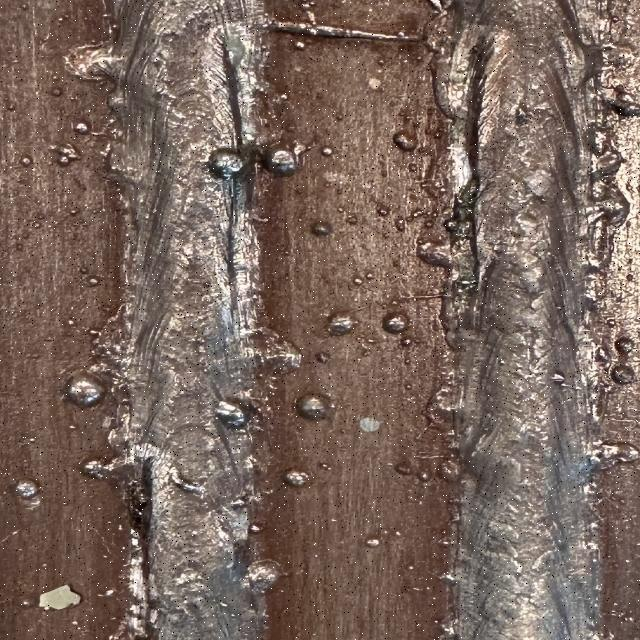Excess Reinforcement: (417, 175, 478, 338), (580, 284, 618, 438), (122, 454, 152, 639), (585, 161, 630, 270), (90, 301, 133, 401), (258, 21, 420, 41), (598, 44, 640, 118), (108, 125, 143, 210), (432, 48, 470, 120), (250, 328, 302, 375), (65, 41, 122, 80), (445, 125, 472, 196), (425, 385, 457, 435), (108, 400, 135, 456), (423, 9, 455, 55), (590, 442, 640, 470), (108, 604, 148, 639), (590, 148, 623, 183), (105, 82, 127, 131), (80, 458, 130, 479), (437, 460, 460, 482), (438, 615, 458, 639), (448, 495, 462, 529), (438, 572, 457, 586), (438, 536, 457, 549), (428, 0, 445, 12)
Spatters: (65, 372, 105, 407), (242, 560, 280, 594), (263, 144, 298, 176), (208, 149, 243, 179), (297, 394, 332, 420), (215, 401, 247, 429), (403, 205, 445, 222), (328, 312, 357, 336), (382, 312, 408, 334), (610, 365, 637, 385), (393, 130, 417, 151), (15, 480, 40, 499), (283, 470, 308, 486), (57, 144, 80, 161), (593, 345, 612, 365), (615, 336, 635, 354), (312, 221, 333, 236), (73, 121, 90, 135), (395, 462, 413, 475), (315, 351, 332, 364), (32, 211, 45, 228), (603, 632, 628, 640), (230, 498, 248, 509), (18, 155, 33, 168), (550, 372, 565, 385), (395, 464, 412, 474), (300, 0, 315, 11), (377, 204, 390, 216), (418, 471, 432, 482), (57, 156, 72, 166), (87, 275, 100, 286), (395, 218, 405, 232), (248, 524, 262, 534), (102, 142, 112, 156), (98, 589, 115, 597), (365, 539, 380, 548), (400, 338, 413, 348), (277, 94, 290, 104), (17, 0, 28, 11), (318, 462, 332, 470), (322, 146, 333, 156), (50, 88, 63, 96), (625, 616, 638, 624), (408, 162, 418, 172), (78, 266, 88, 275), (353, 278, 363, 286), (58, 14, 68, 22), (365, 272, 375, 280), (295, 41, 305, 49), (7, 102, 15, 111), (335, 112, 343, 121), (68, 425, 77, 431), (68, 95, 77, 101), (405, 384, 413, 390), (325, 181, 332, 187), (378, 60, 385, 66), (338, 206, 345, 212), (498, 359, 505, 365), (68, 320, 75, 326), (70, 210, 77, 215), (50, 74, 57, 79), (28, 438, 35, 442), (72, 621, 78, 625), (408, 566, 413, 570), (103, 555, 108, 558)
